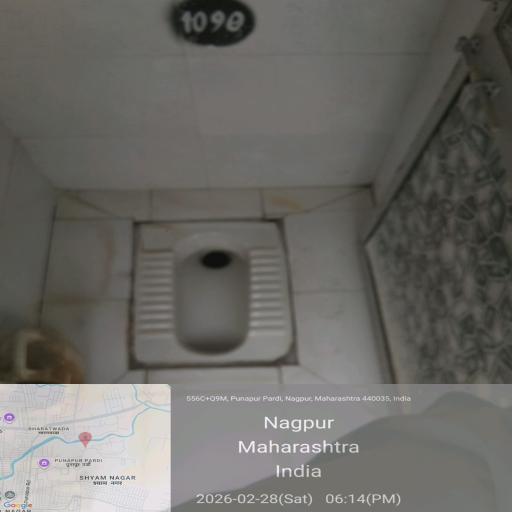clean_floor: (17, 2, 494, 176), (17, 362, 484, 512)
clean_indian: (111, 203, 338, 389)
